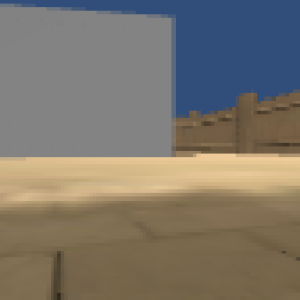wall: (1, 1, 181, 166)
